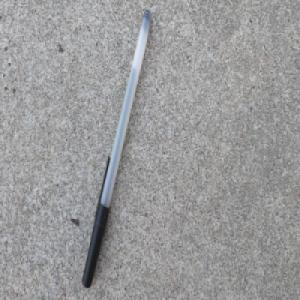Pen: (80, 8, 152, 288)
